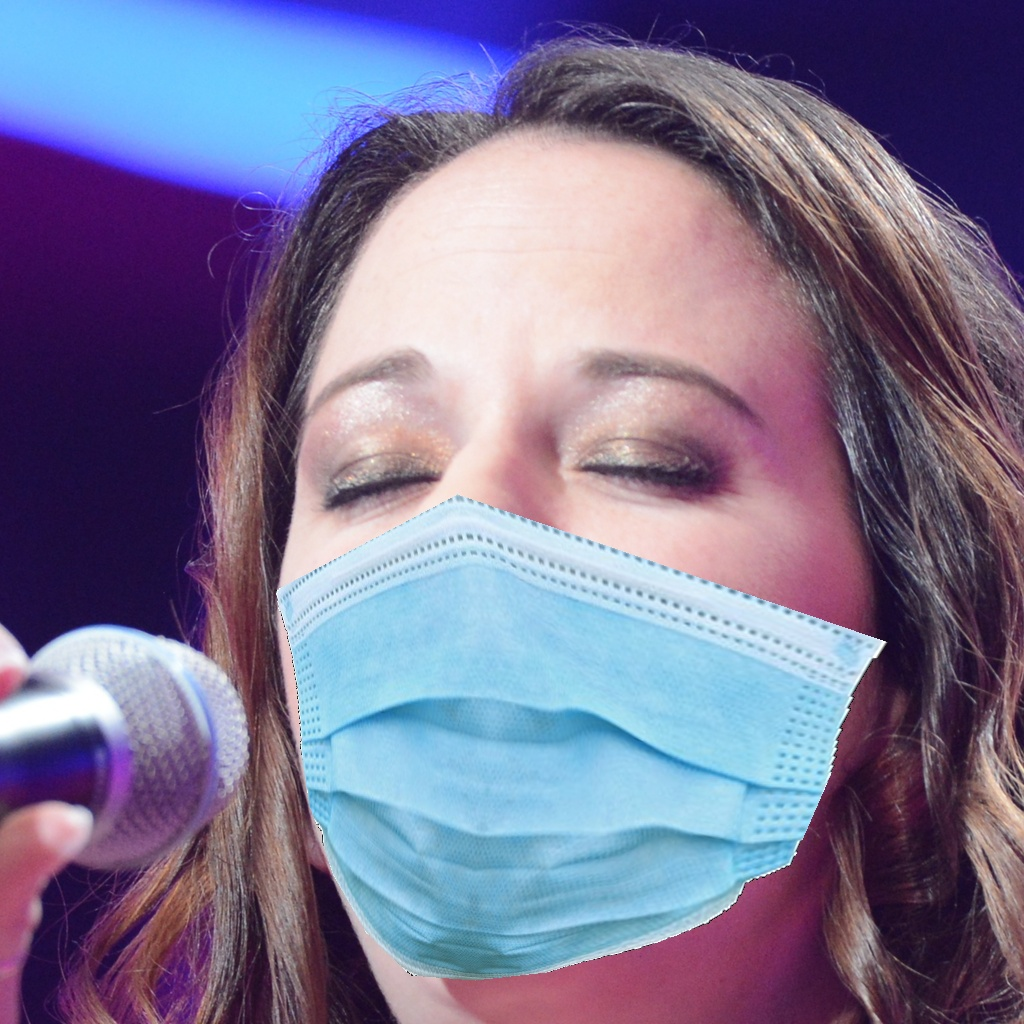Mask: (273, 345, 889, 979)
